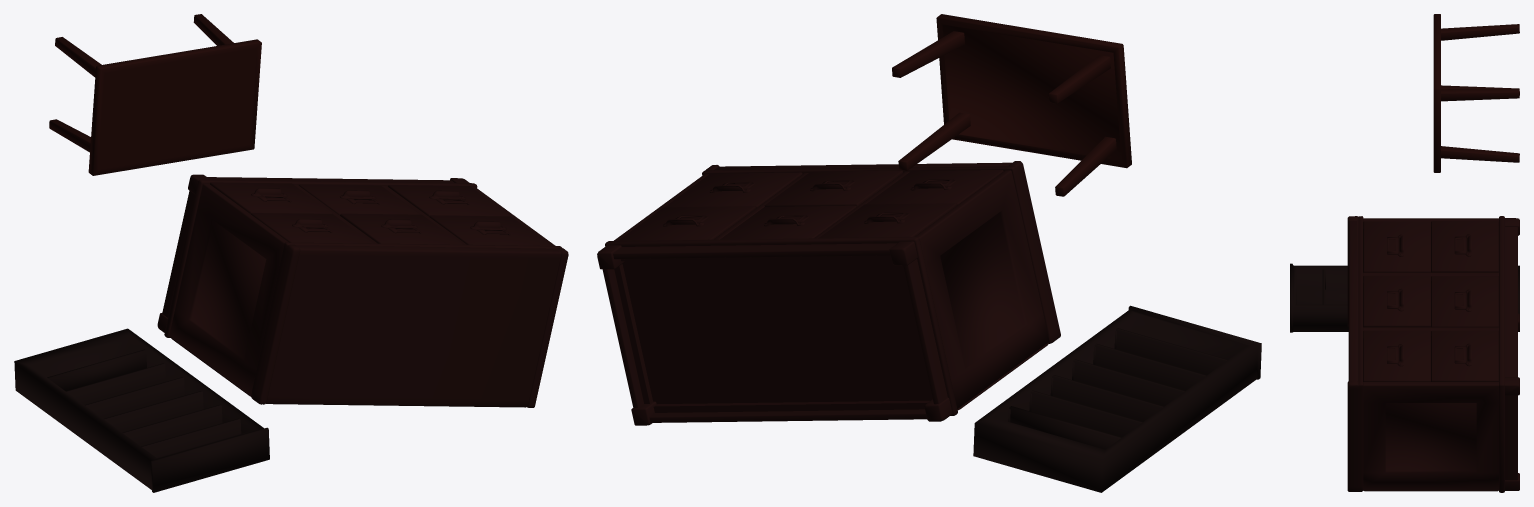
File: scene_0003_diffuse.obj
3 renders of one model, left to right at view 1: azimuth 30°, elevation 25°; view 2: azimuth 150°, elevation 25°; view 3: azimuth 270°, elevation 25°, orthographic. The views are drawn at different scales.
Visible parts, largest first — view 1: diffuse_cabinet_01, diffuse_shelf_03, diffuse_table_02; view 2: diffuse_cabinet_01, diffuse_shelf_03, diffuse_table_02; view 3: diffuse_cabinet_01, diffuse_table_02, diffuse_shelf_03.
Boxes of the visible parts, left/top/right/bottom form: diffuse_cabinet_01: left=157, top=174, right=568, bottom=407; diffuse_shelf_03: left=14, top=328, right=269, bottom=492; diffuse_table_02: left=49, top=14, right=261, bottom=175; diffuse_cabinet_01: left=597, top=161, right=1060, bottom=425; diffuse_shelf_03: left=973, top=305, right=1261, bottom=492; diffuse_table_02: left=892, top=14, right=1131, bottom=196; diffuse_cabinet_01: left=1347, top=216, right=1519, bottom=492; diffuse_table_02: left=1433, top=14, right=1519, bottom=172; diffuse_shelf_03: left=1290, top=263, right=1519, bottom=332.
Size of the model in its own units: 236 by 197 by 126.
